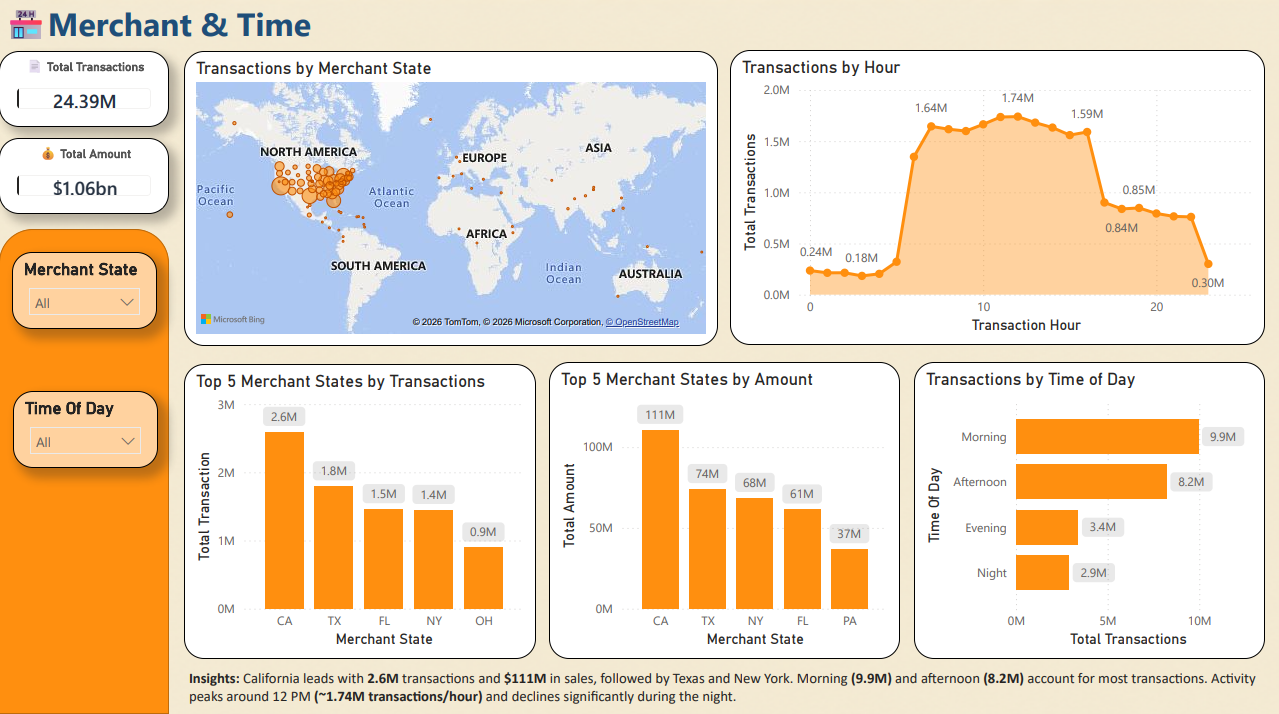

This screenshot's page, from the dashboard's own definition file:
{"tool":"powerbi","page":{"name":"Merchant & Time","canvas":[1280,720],"ordinal":4},"visuals":[{"type":"textbox","box":[0,0,339.2,62.1],"z":0},{"type":"barChart","title":"Transactions by Time of Day","fields":{"Category":["vw_Time_Analysis.TimeOfDay"],"Y":["Sum(Time Analysis.TotalTransactions)"]},"box":[914.6,366.1,351.3,296.8],"z":1000},{"type":"columnChart","title":"Top 5 Merchant States by Transactions","fields":{"Category":["vw_Merchant_Analysis_updated.MerchantState"],"Y":["Sum(Merchant Analysis.TotalTransactions)"]},"box":[184.7,367.6,352,295.3],"z":2000},{"type":"shape","box":[0,233.2,169.6,484.5],"z":3000},{"type":"slicer","title":"Merchant State","fields":{"Values":["Merchant Analysis.MerchantState"]},"box":[12.6,255.9,145,77.4],"z":4000},{"type":"slicer","title":"Time Of Day","fields":{"Values":["Time Analysis.TimeOfDay"]},"box":[13.6,394.7,145,77.2],"z":5000},{"type":"map","title":"Transactions by Merchant State","fields":{"Category":["Merchant Analysis.MerchantState"],"Size":["Sum(Merchant Analysis.TotalTransactions)"]},"box":[184.8,54.6,534.5,295],"z":6000},{"type":"columnChart","title":"Top 5 Merchant States by Amount","fields":{"Category":["Merchant Analysis.MerchantState"],"Y":["Sum(Merchant Analysis.TotalSales)"]},"box":[549.7,366.1,351.3,296.8],"z":7000},{"type":"lineChart","title":"Transactions by Hour","fields":{"Category":["Time Analysis.TransactionHour"],"Y":["Sum(Time Analysis.TotalTransactions)"]},"box":[731.4,54.2,534.5,295.3],"z":8000},{"type":"textbox","box":[184.7,667.8,1094.8,51.5],"z":9000},{"type":"cardVisual","title":"📄 Total Transactions","fields":{"Data":["Sum(vw_Executive_Summary.TotalTransactions)"]},"box":[0,54.5,169.6,76],"z":10000},{"type":"cardVisual","title":"💰 Total Amount","fields":{"Data":["Sum(vw_Executive_Summary.TotalTransactionAmount)"]},"box":[0,142.3,169.6,76],"z":11000}]}

Visuals, with their boxes in screenshot pixels (x1, y1, x2, y2), scaled from the page's 1280x720 canvas onto the 1279x714 screenshot:
textbox: Rect(0, 0, 339, 62)
"Transactions by Time of Day" barChart: Rect(914, 363, 1265, 657)
"Top 5 Merchant States by Transactions" columnChart: Rect(185, 365, 536, 657)
shape: Rect(0, 231, 169, 712)
"Merchant State" slicer: Rect(13, 254, 157, 331)
"Time Of Day" slicer: Rect(14, 391, 158, 468)
"Transactions by Merchant State" map: Rect(185, 54, 719, 347)
"Top 5 Merchant States by Amount" columnChart: Rect(549, 363, 900, 657)
"Transactions by Hour" lineChart: Rect(731, 54, 1265, 347)
textbox: Rect(185, 662, 1278, 713)
"📄 Total Transactions" cardVisual: Rect(0, 54, 169, 129)
"💰 Total Amount" cardVisual: Rect(0, 141, 169, 216)
